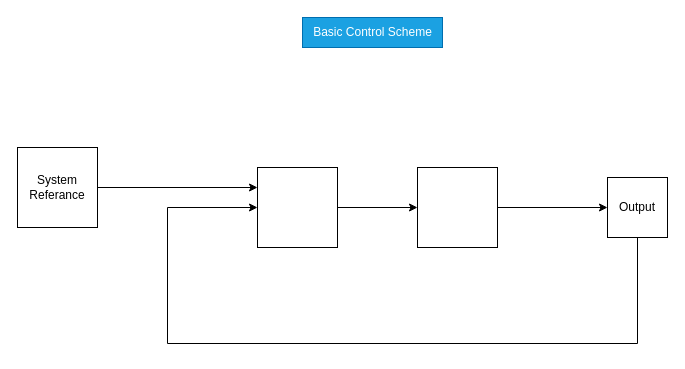
This 685x369 diagram has some shape labels left out. Here are the shapes that lost their labels. From the top down, the centre of each, then its label:
At (297,207): "Controller (RL)".
At (457,207): "System G(s)".
